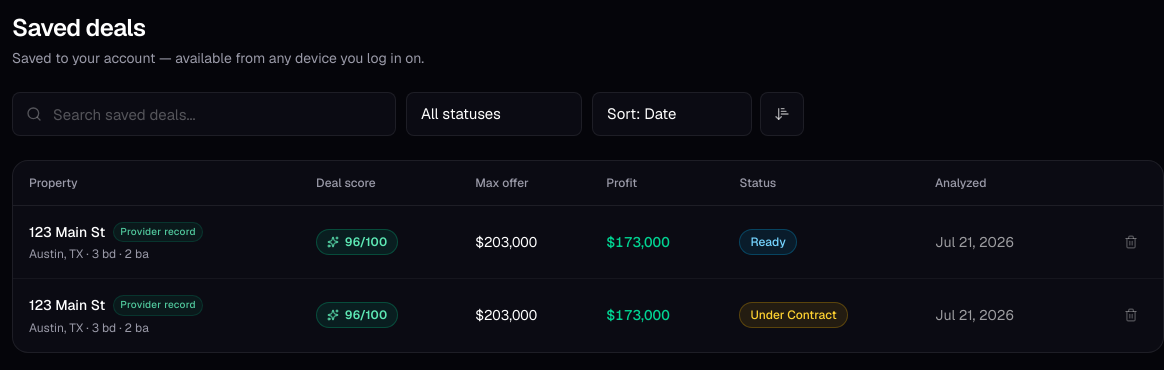
Test: DealsListPage — search, filter, sort › filters the visible deals by status
Step 1. Select "Under Contract" in the dropdown named "Filter by status" → (494, 114), box [406,92,582,136]
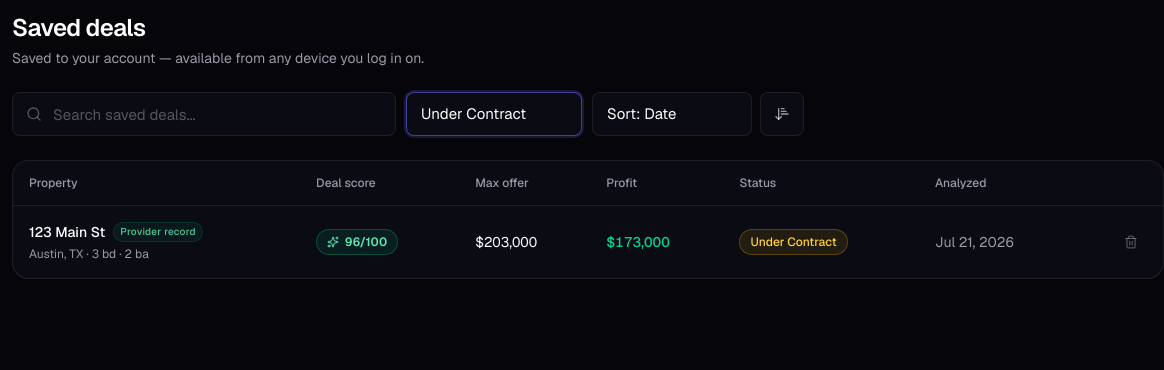
Check: the text "Under Contract" is shown, box [740,229,848,255]
Check: the text "Ready" is gone
